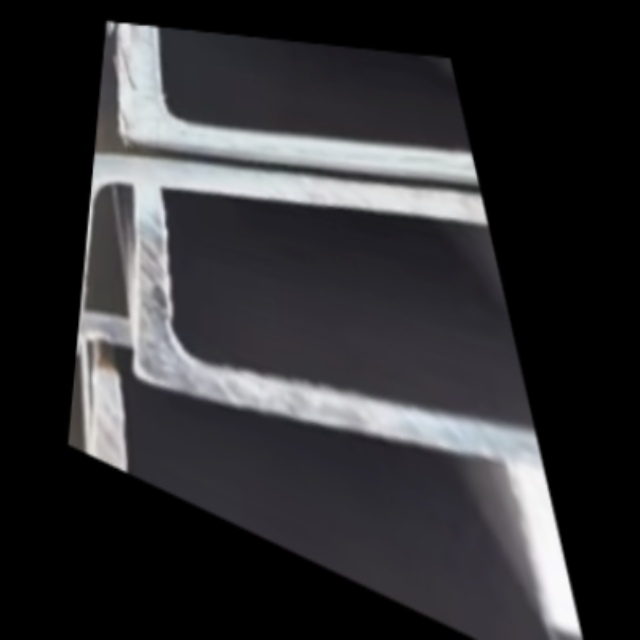Shveller: (76, 123, 563, 549), (68, 310, 598, 640), (92, 303, 598, 640), (128, 155, 561, 538), (118, 23, 486, 214), (97, 21, 483, 200)
